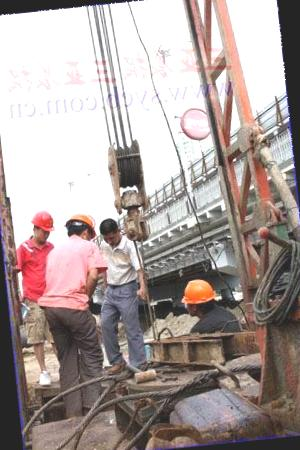no_helmet: (94, 214, 127, 252)
